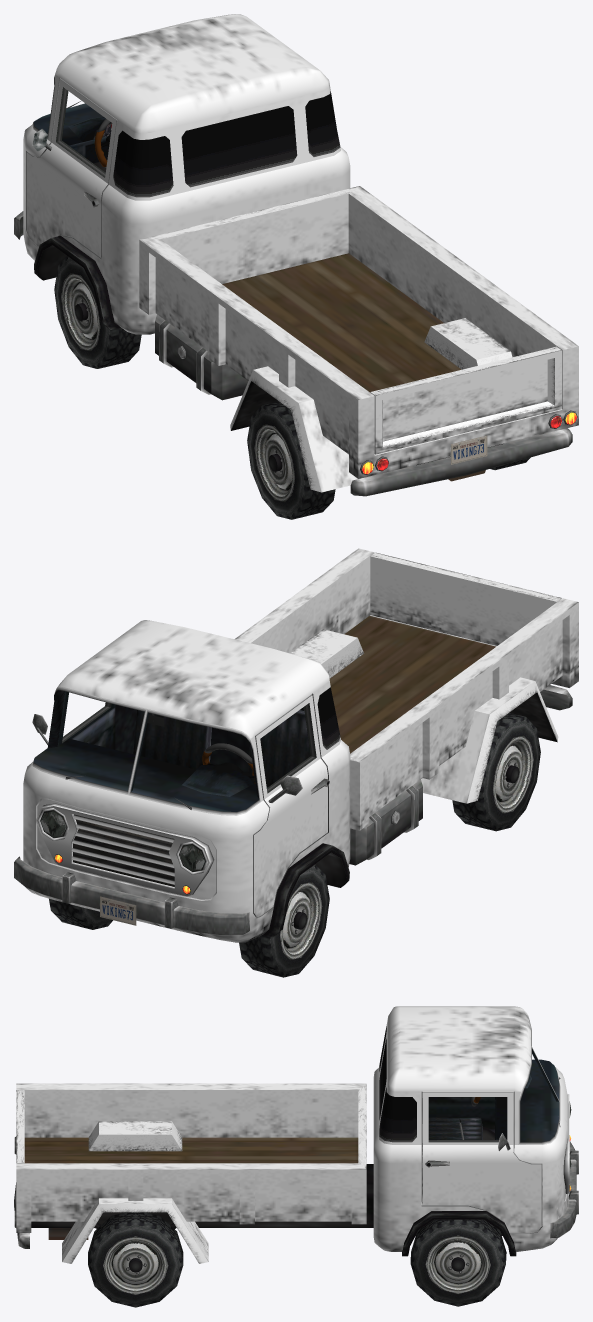
File: 小貨車_2500kg_80cm重心高.fbx
The picture shows the model from 3 angles, top to bottom: view 1: azimuth 30°, elevation 25°; view 2: azimuth 150°, elevation 25°; view 3: azimuth 270°, elevation 25°; orthographic projection. The views are drawn at different scales.
Visible parts, largest first — view 1: chassis.001, wheel.005, wheel.002; view 2: chassis.001, wheel.005, wheel.002, wheel.001, Interior_Steering_Wheel_01_M; view 3: chassis.001, wheel.003, wheel.001.
Boxes of the visible parts, bbox=[...] form: chassis.001: bbox=[14, 14, 578, 496]; wheel.005: bbox=[247, 401, 335, 519]; wheel.002: bbox=[54, 256, 141, 368]; chassis.001: bbox=[14, 548, 578, 942]; wheel.005: bbox=[452, 712, 540, 831]; wheel.002: bbox=[239, 864, 329, 977]; wheel.001: bbox=[49, 898, 112, 929]; Interior_Steering_Wheel_01_M: bbox=[202, 743, 255, 783]; chassis.001: bbox=[14, 1006, 578, 1263]; wheel.003: bbox=[88, 1212, 183, 1307]; wheel.001: bbox=[410, 1219, 506, 1306].
Bounding box in the file's own units: 189 × 188 × 426.
Materials: 23 (16 with a texture image).
